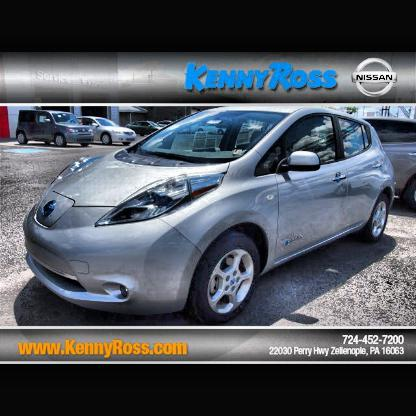Nissan Leaf Hatchback 2012: (22, 105, 400, 326)
